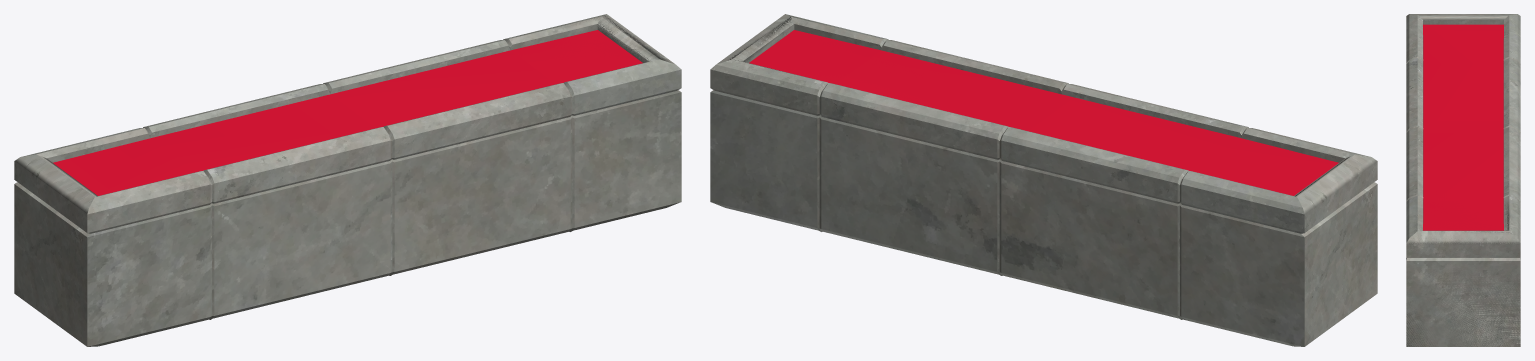
The model's file is PlanterBox.fbx.
3 renders of one model, left to right at view 1: azimuth 30°, elevation 25°; view 2: azimuth 150°, elevation 25°; view 3: azimuth 270°, elevation 25°, orthographic. The views are drawn at different scales.
Parts seen in each view (by area): view 1: LongPlanterBox_Complete, LongPlanterBox_Center, LongPlanterBox_Edge; view 2: LongPlanterBox_Complete, LongPlanterBox_Center, LongPlanterBox_Edge; view 3: LongPlanterBox_Complete, LongPlanterBox_Edge, LongPlanterBox_Center.
Part boxes in pixels (x1,y1,x2,y2): LongPlanterBox_Complete: (14, 14, 680, 346); LongPlanterBox_Center: (325, 39, 574, 275); LongPlanterBox_Edge: (505, 14, 681, 230); LongPlanterBox_Complete: (710, 14, 1377, 346); LongPlanterBox_Center: (819, 39, 1068, 220); LongPlanterBox_Edge: (711, 14, 887, 91); LongPlanterBox_Complete: (1406, 14, 1520, 346); LongPlanterBox_Edge: (1406, 195, 1520, 346); LongPlanterBox_Center: (1406, 125, 1520, 201).
Size of the model in its own units: 5504 by 1292 by 1170.
